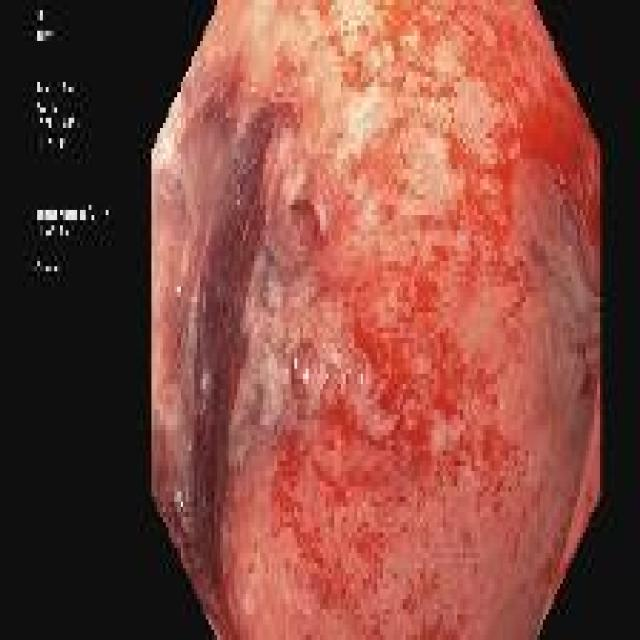ulcerative-colitis: (152, 2, 600, 638)
